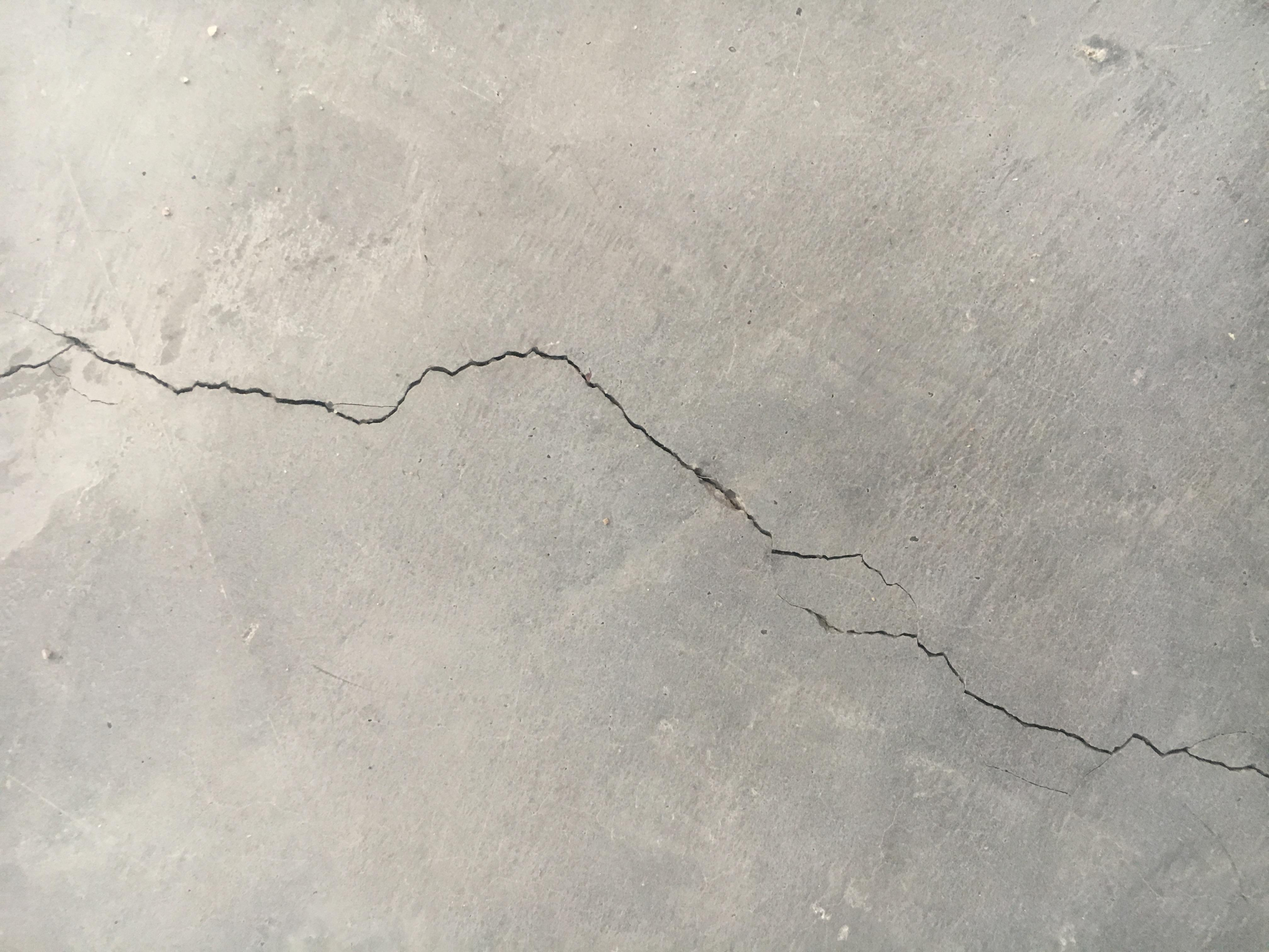Horizontal Settlement Crack: (6, 306, 1265, 794)
